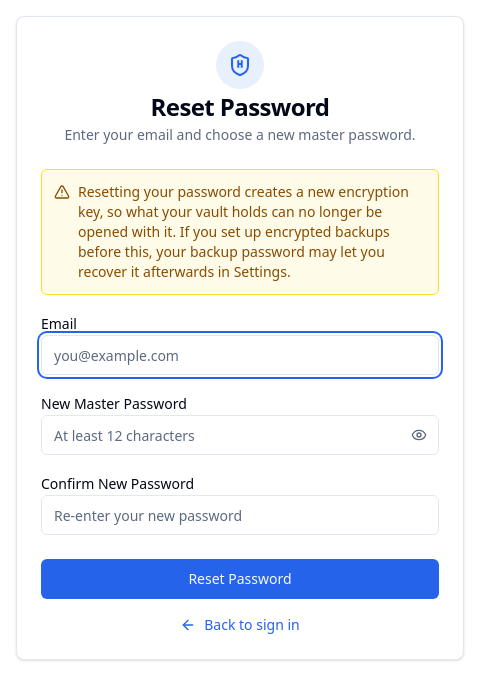
Test case: ResetPasswordPage - the reveal toggle has a name › names the reveal control for both of its states
Step 1. Click the button named "Show password" → (419, 435), box [411,427,427,443]
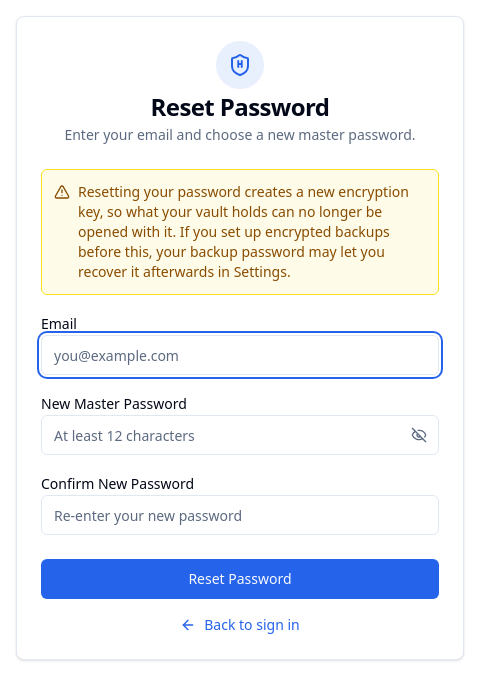
Check: the button named "Hide password" is shown, box [411,427,427,443]
